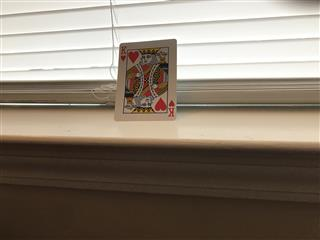KingOfHearts: (113, 38, 177, 121)
